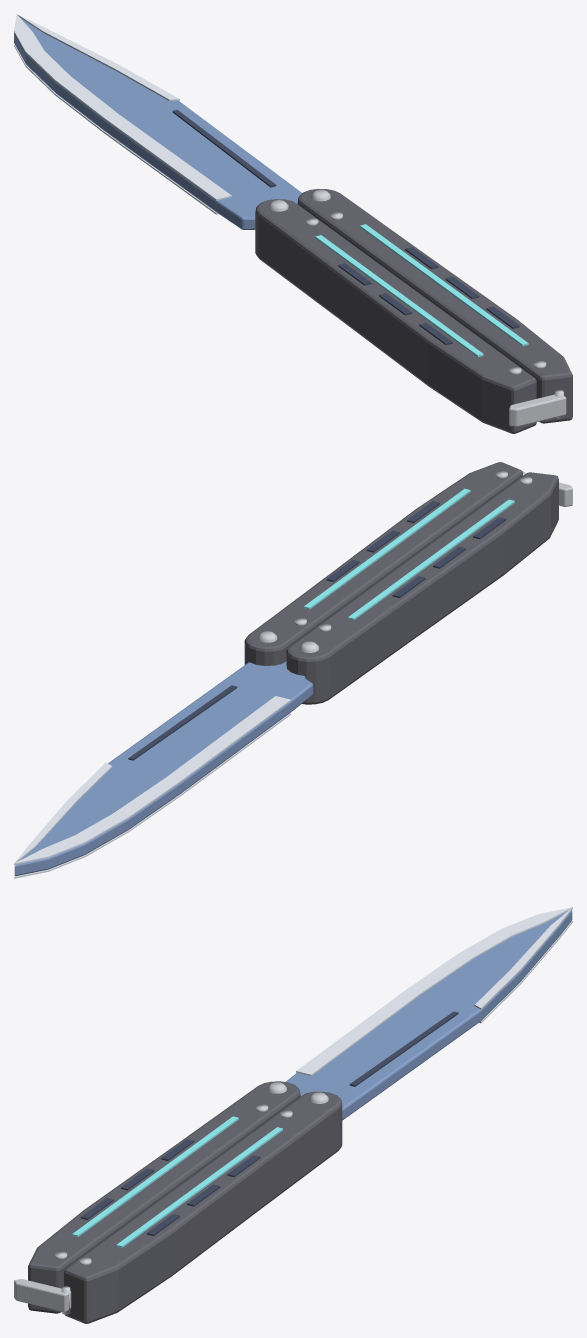
File: butterfly.glb
3 renders of one model, top to bottom at view 1: azimuth 30°, elevation 25°; view 2: azimuth 150°, elevation 25°; view 3: azimuth 330°, elevation 25°, orthographic.
Visible parts, largest first — view 1: BiteHandle, Butterfly, SafeHandle; view 2: BiteHandle, Butterfly, SafeHandle; view 3: SafeHandle, Butterfly, BiteHandle.
Part boxes in pixels (<box>): BiteHandle: <box>255,199,536,433</box>; Butterfly: <box>14,14,301,229</box>; SafeHandle: <box>297,188,572,426</box>; BiteHandle: <box>286,472,558,704</box>; Butterfly: <box>14,661,313,878</box>; SafeHandle: <box>244,462,572,665</box>; SafeHandle: <box>14,1091,342,1323</box>; Butterfly: <box>286,907,572,1120</box>; BiteHandle: <box>28,1081,300,1313</box>.
Size of the model in its own units: 0.0256 by 0.0156 by 0.2616.
